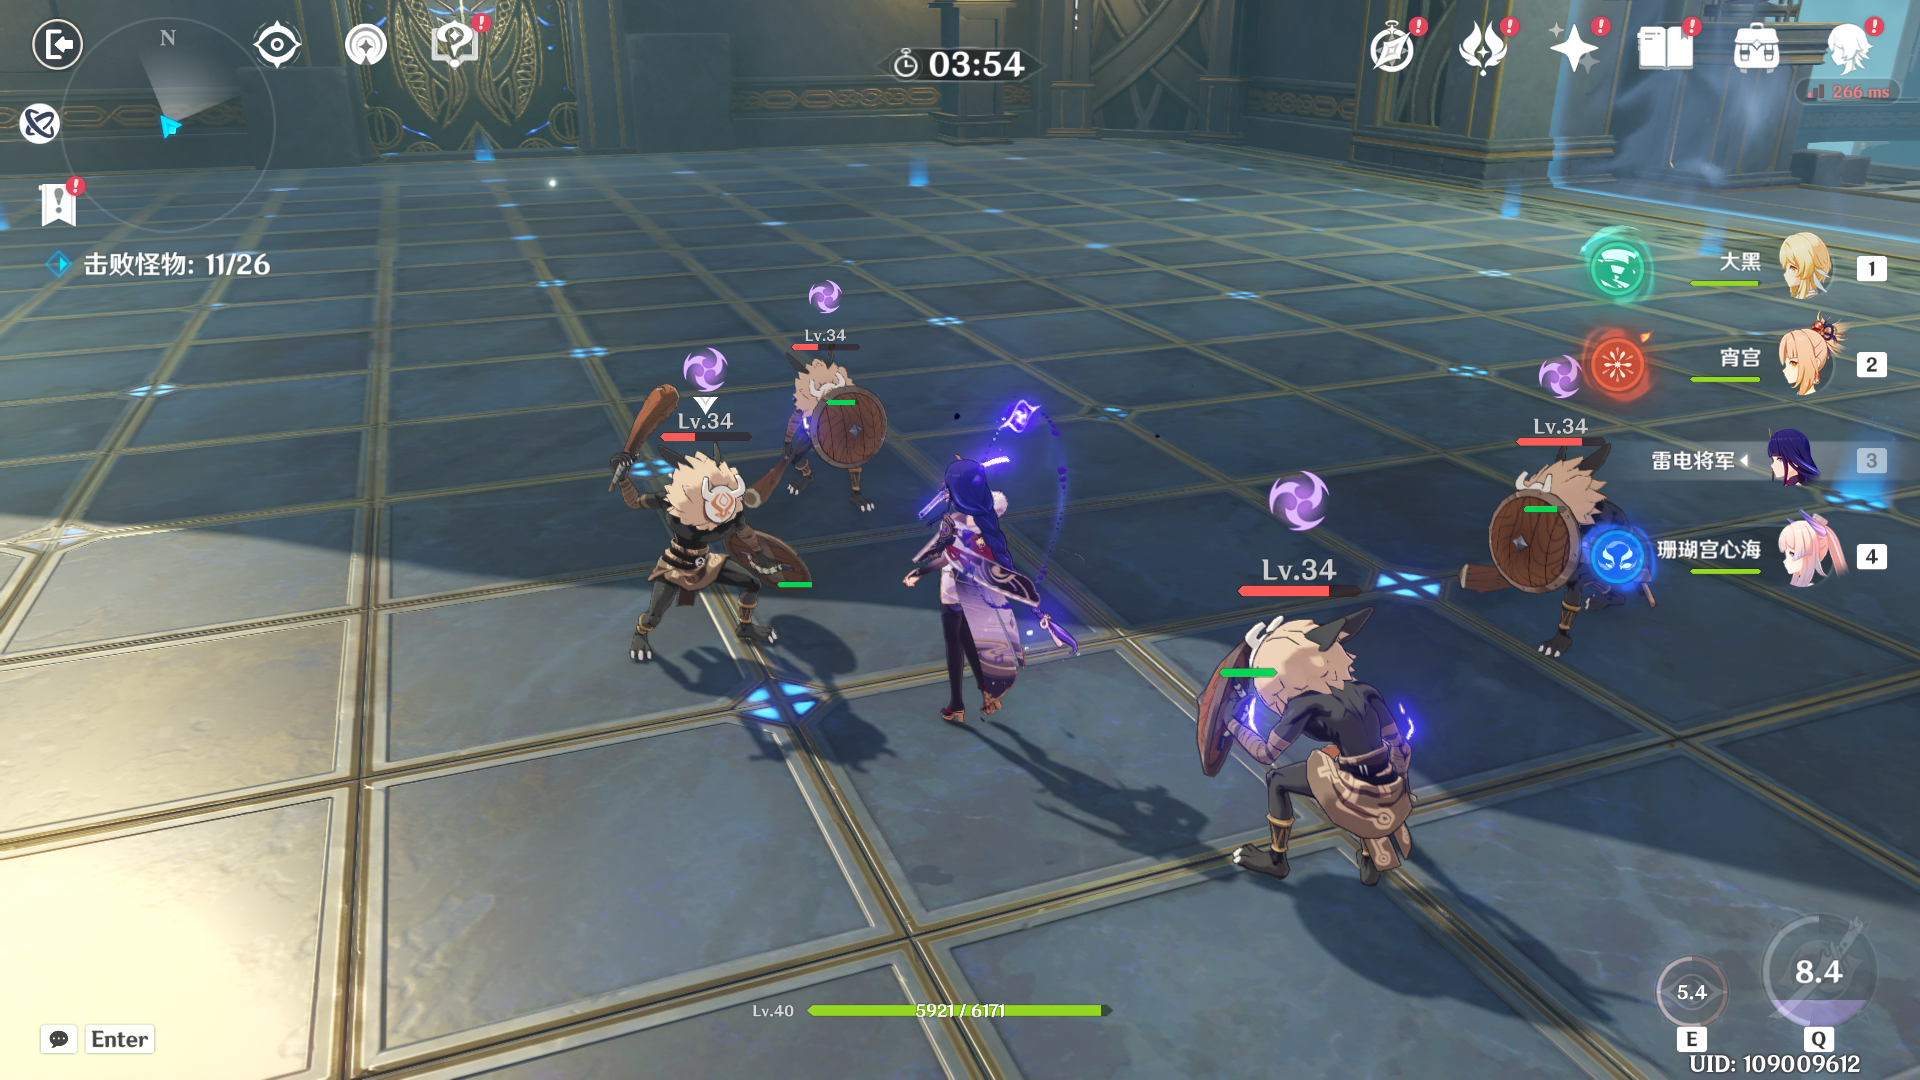character: (877, 436, 1080, 741)
hili: (1172, 566, 1441, 935), (600, 405, 833, 698), (1440, 431, 1663, 670), (737, 352, 887, 542)
